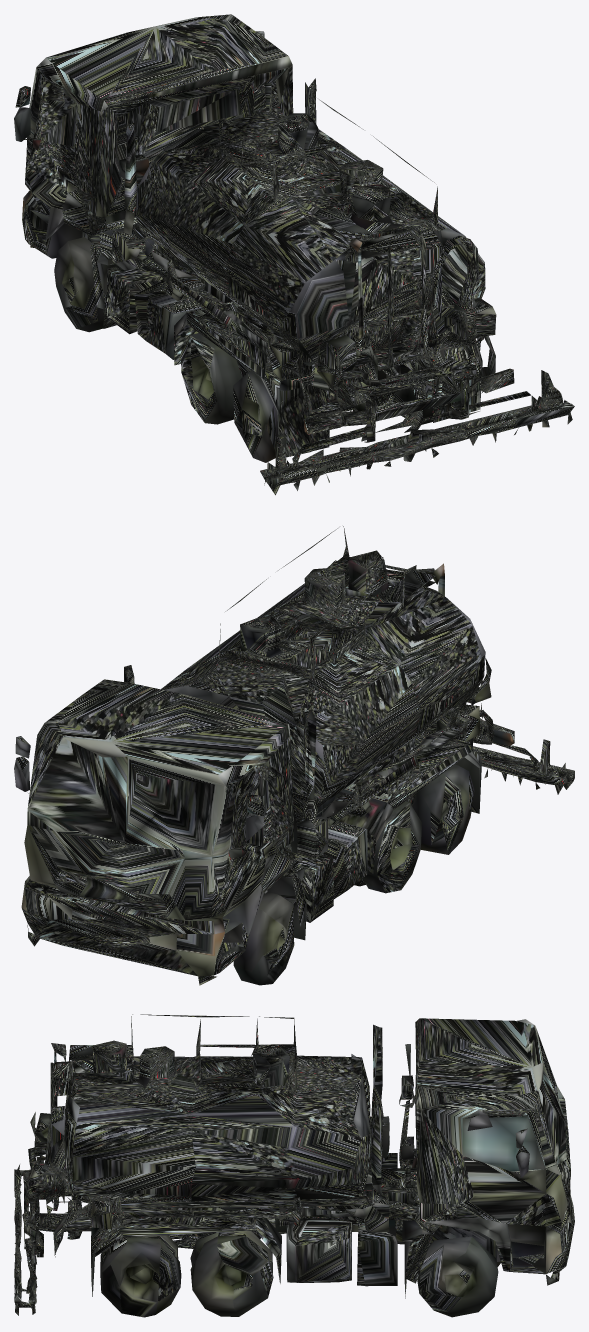
File: espargidor-rr_lod1.glb
3 views of the same model, one above another, from view 1: azimuth 30°, elevation 25°; view 2: azimuth 150°, elevation 25°; view 3: azimuth 270°, elevation 25° (orthographic). The views are drawn at different scales.
Parts seen in each view (by area): view 1: tripo_node_6fbfa7a9-771f-44d2-9c31-a74339f14ee1; view 2: tripo_node_6fbfa7a9-771f-44d2-9c31-a74339f14ee1; view 3: tripo_node_6fbfa7a9-771f-44d2-9c31-a74339f14ee1.
Boxes of the visible parts, x1,y1,x2,y2 form: tripo_node_6fbfa7a9-771f-44d2-9c31-a74339f14ee1: (14,14,574,495); tripo_node_6fbfa7a9-771f-44d2-9c31-a74339f14ee1: (14,526,574,985); tripo_node_6fbfa7a9-771f-44d2-9c31-a74339f14ee1: (14,1014,574,1317).
Bounding box in the file's own units: 4.73 × 4.01 × 8.5.
Materials: 1 (1 with a texture image).
